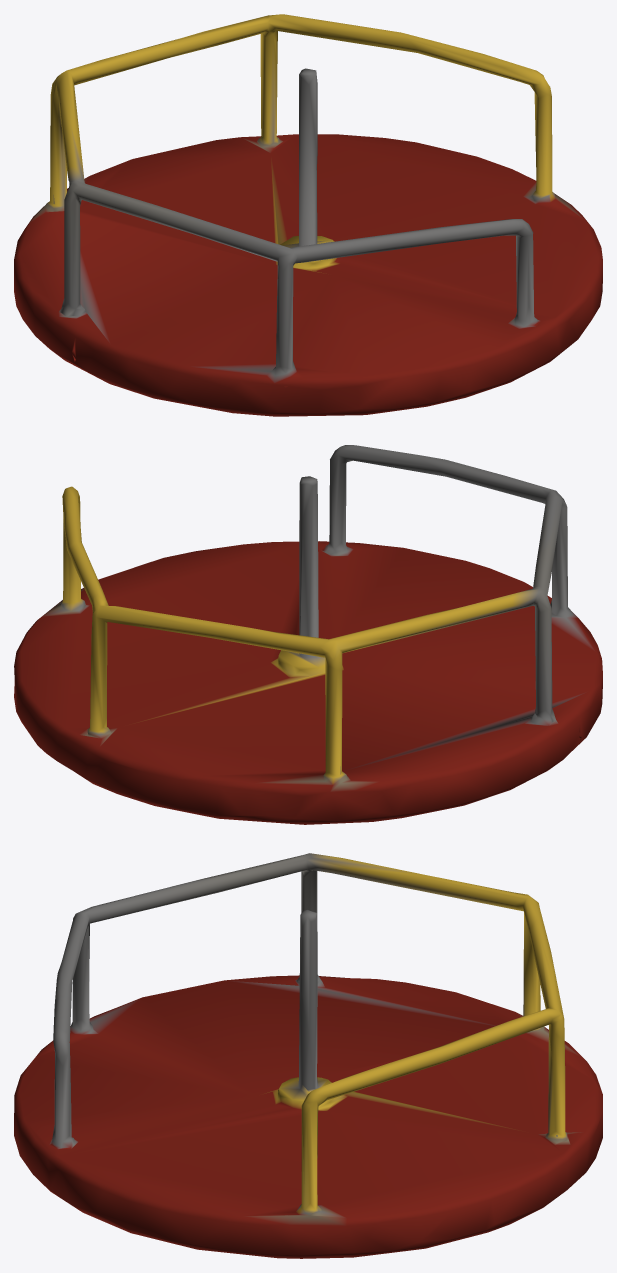
File: gen3d-merry-go-round-lod1.glb
3 views of the same model, one above another, from view 1: azimuth 30°, elevation 25°; view 2: azimuth 150°, elevation 25°; view 3: azimuth 270°, elevation 25° (orthographic).
Visible parts, largest first — view 1: part_0; view 2: part_0; view 3: part_0.
Boxes of the visible parts, x1,y1,x2,y2 form: part_0: (14, 14, 602, 416); part_0: (14, 445, 602, 824); part_0: (14, 853, 602, 1258).
Size of the model in its own units: 2.37 by 0.9997 by 2.38.
